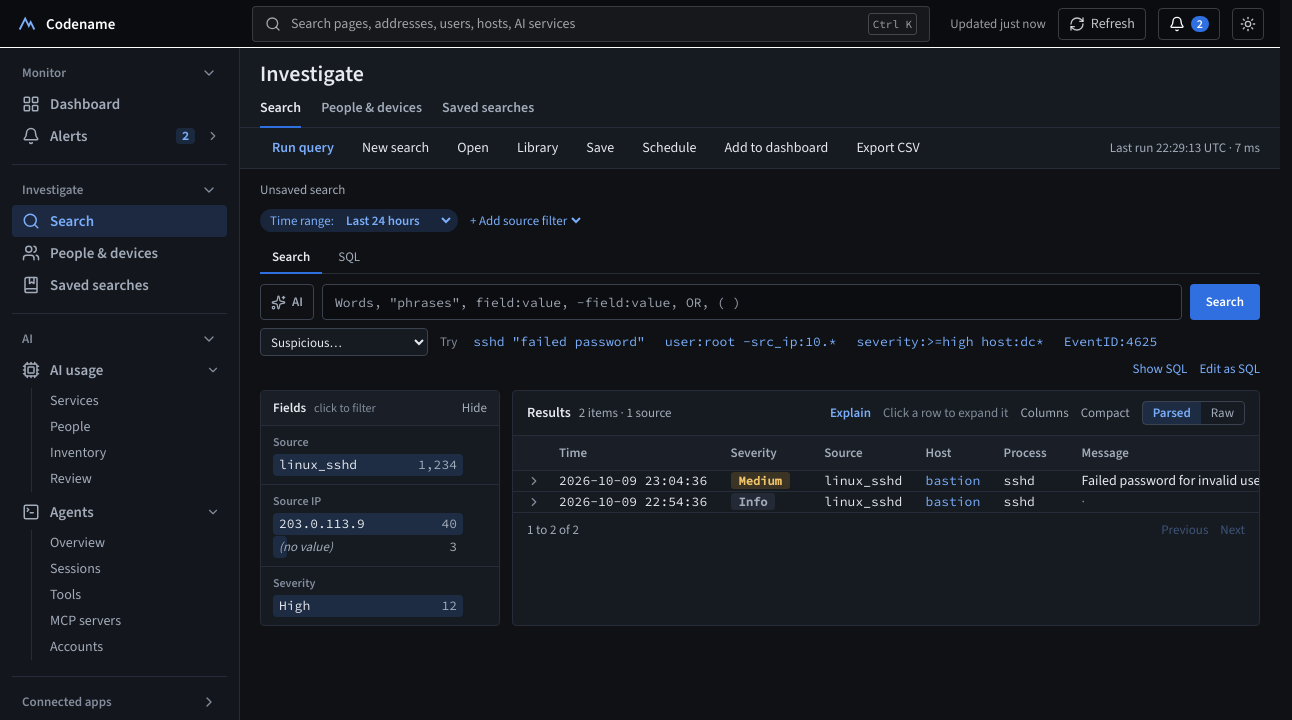
Simple search › shows why a search could not be read
Check: the text "Failed password for invalid user oracle" is shown, box [1082,471,1259,490]
Step 1. Type "(a" into the search field named "Search text" → (752, 302), box [322,284,1182,320]
Then press Enter
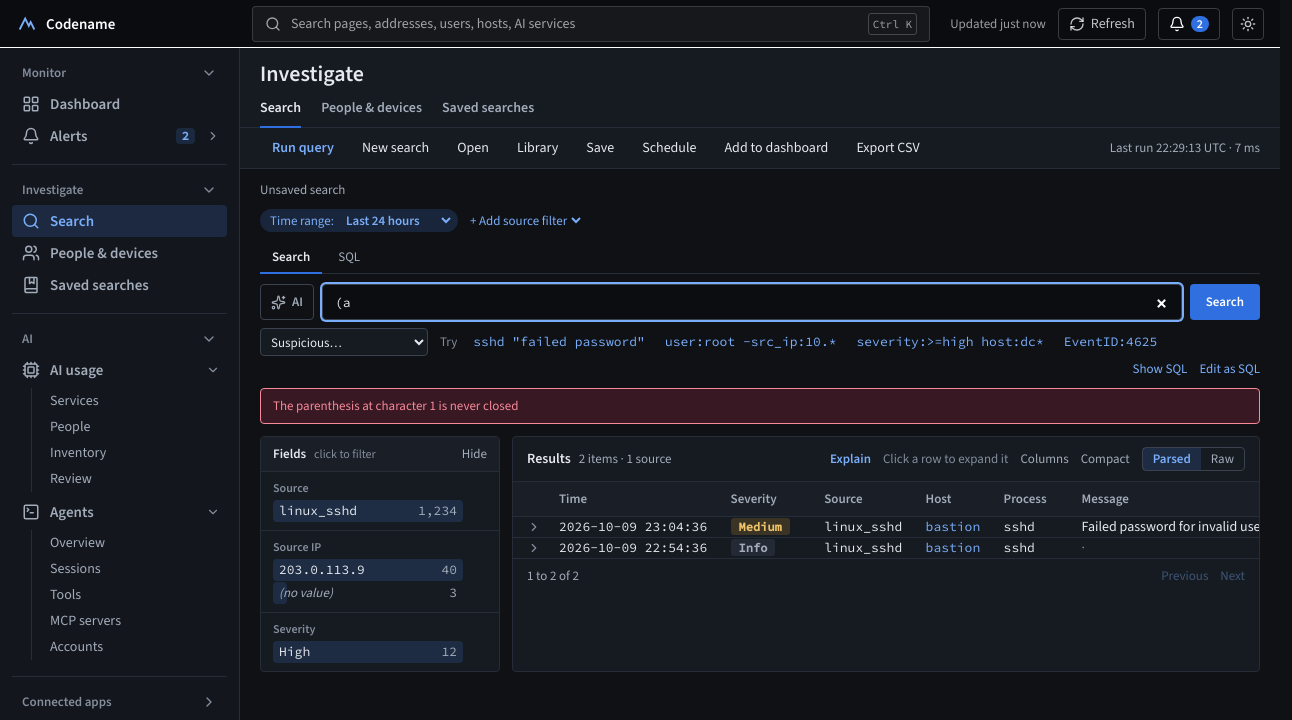
Check: the message shows "never closed", box [273,397,518,414]
